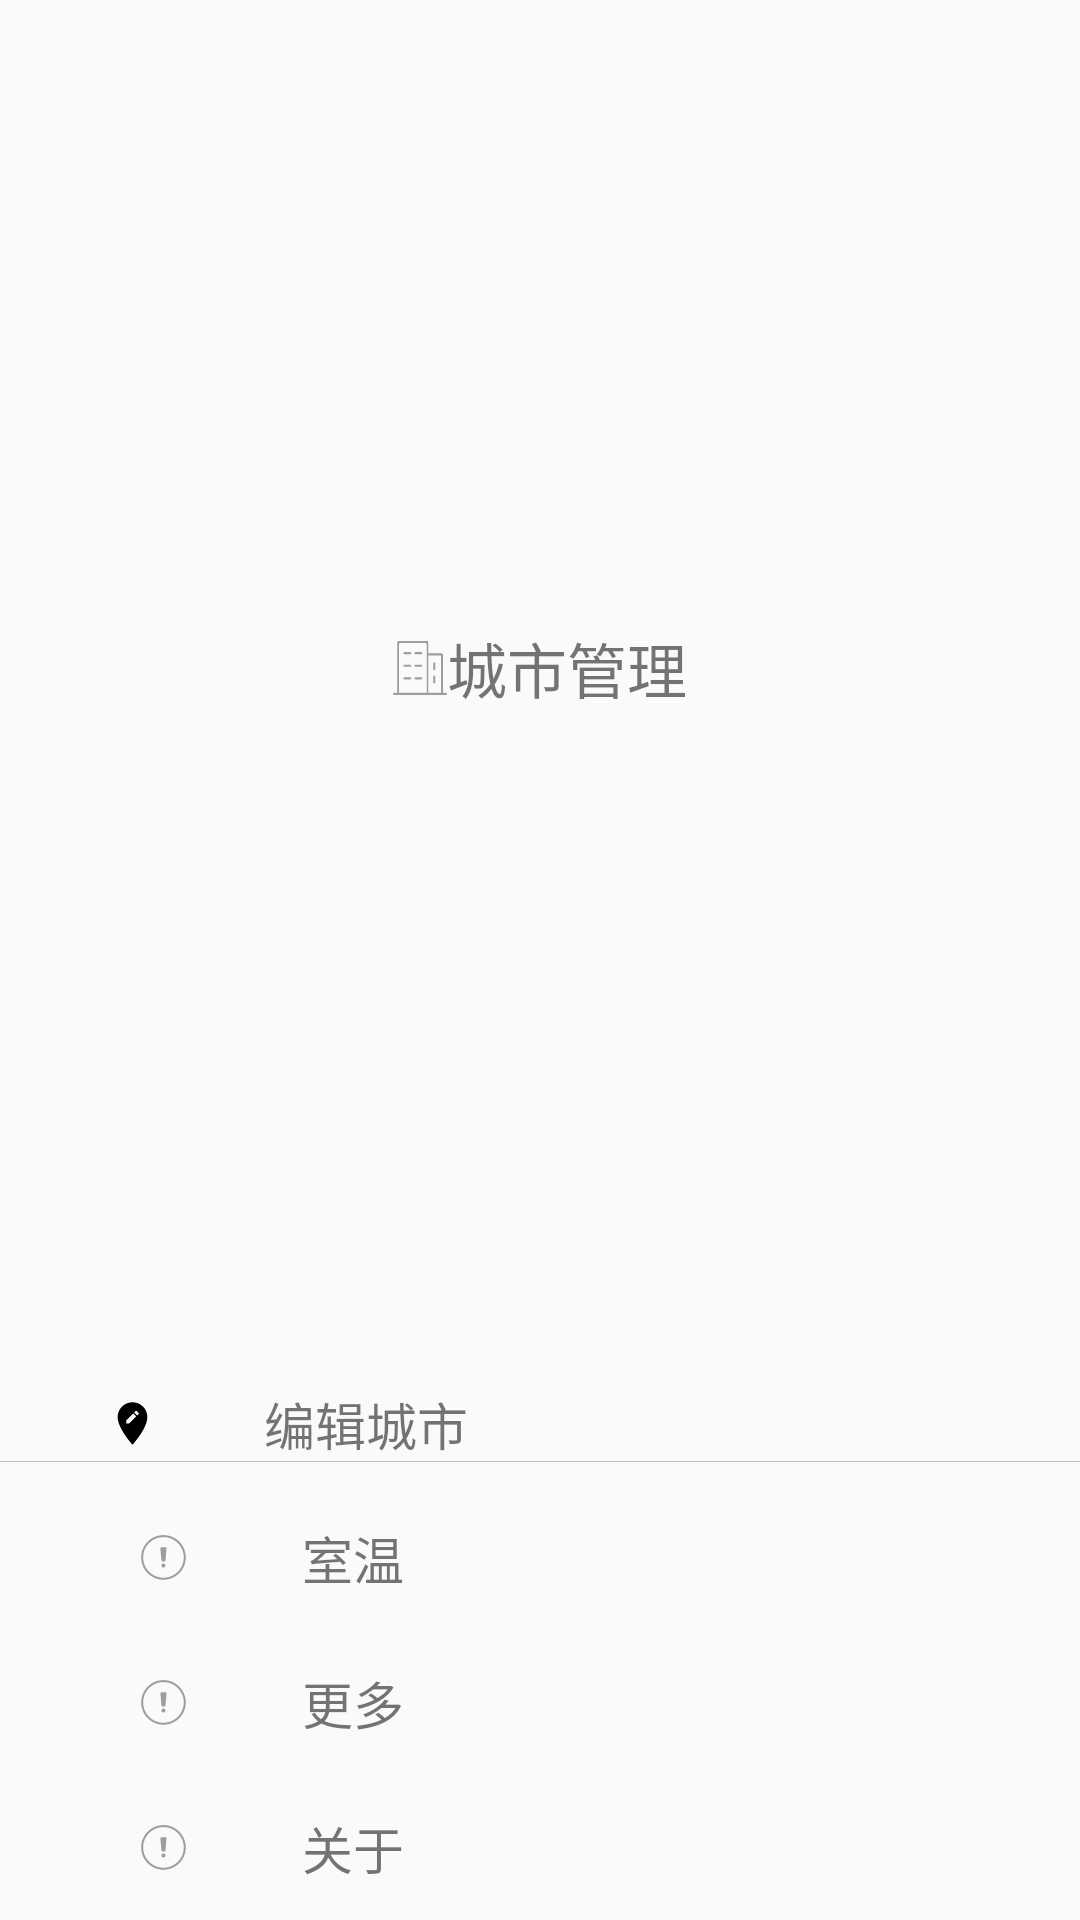

Icon bounding boxes for this 1080w x 1920h phone screenshot, format (x1, y1, x2, y2):
edit location: (117, 1402, 148, 1445)
